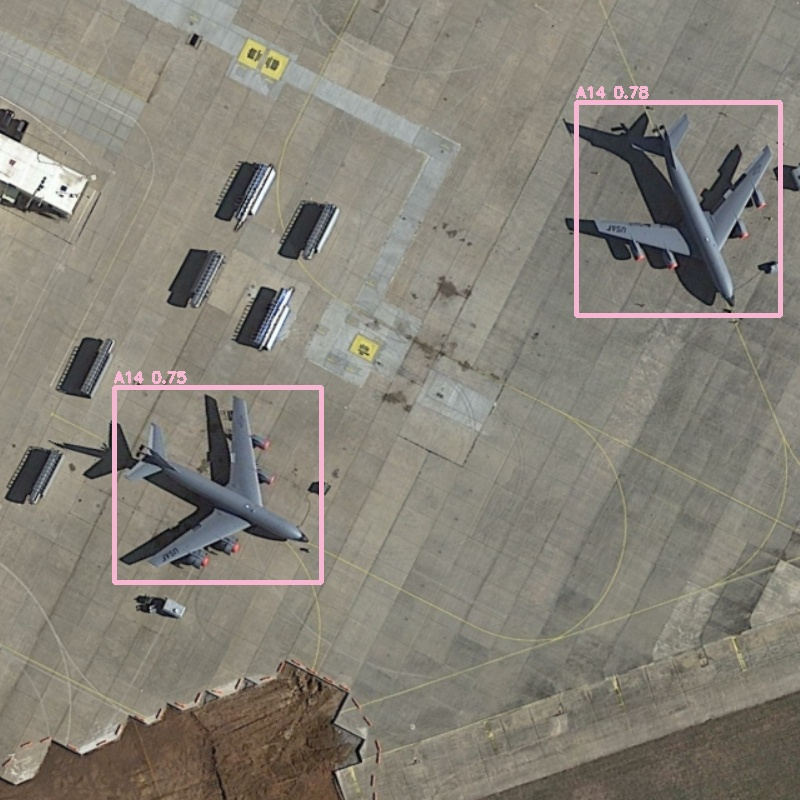A14: (576, 102, 780, 315), (114, 387, 321, 582)
